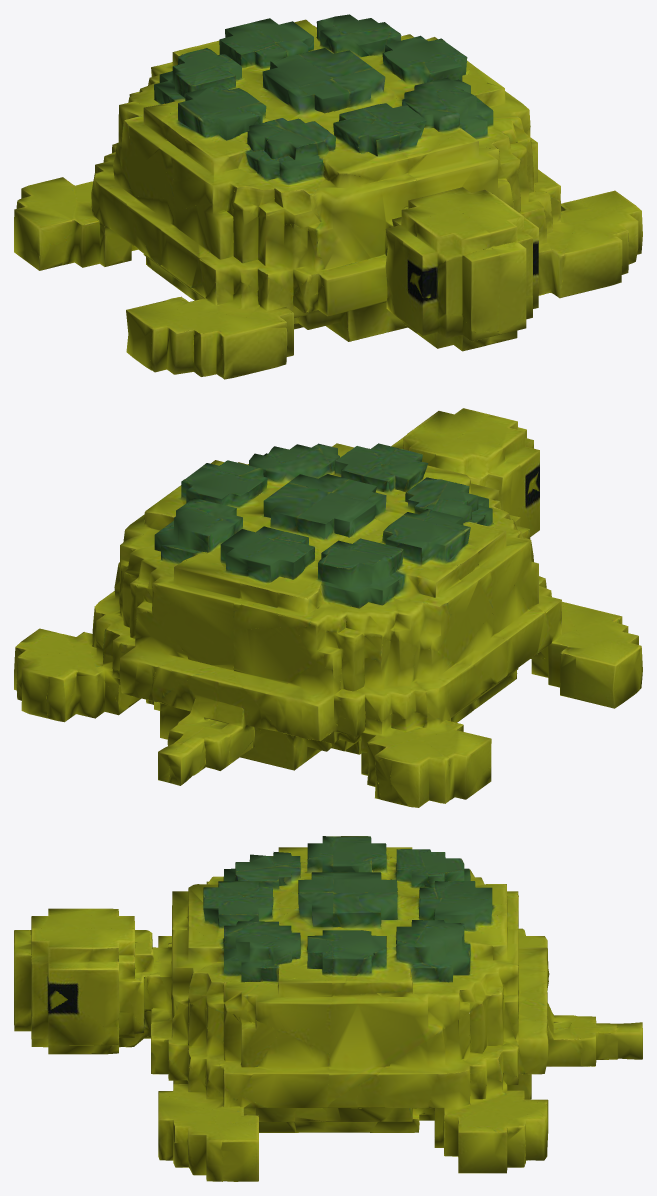
Rendered from turtle.glb.
The picture shows the model from 3 angles, top to bottom: view 1: azimuth 30°, elevation 25°; view 2: azimuth 150°, elevation 25°; view 3: azimuth 270°, elevation 25°; orthographic projection. The views are drawn at different scales.
Parts seen in each view (by area): view 1: Mesh_0; view 2: Mesh_0; view 3: Mesh_0.
Part boxes in pixels (x1,y1,x2,y2): Mesh_0: [14, 14, 642, 379]; Mesh_0: [14, 408, 642, 807]; Mesh_0: [14, 836, 642, 1181].
Size of the model in its own units: 1.64 by 0.5938 by 1.91.
1 material, 1 textured.
